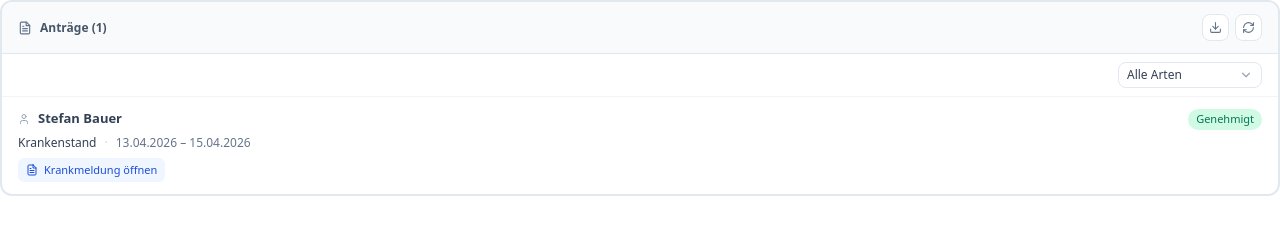
Test case: LeaveRequestsList — Krankmeldung link › shows an inline error when the signed-url request fails
Expected: the text "Stefan Bauer" is shown, [38, 109, 122, 128]
Click the button with test id "attachment-link-lr-krank".
click(92, 170)  # box [18, 158, 165, 182]
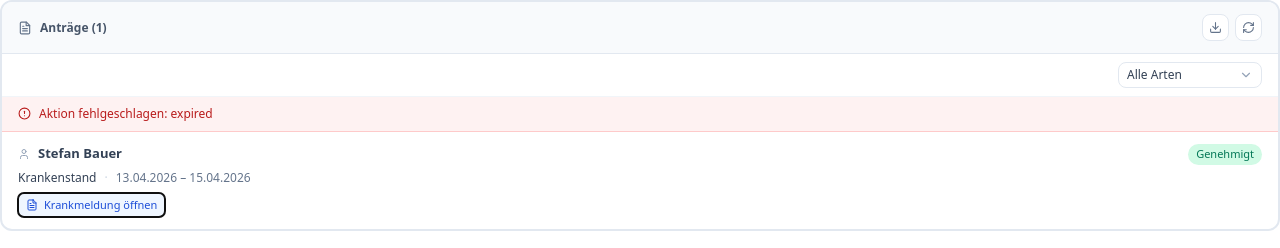
Result: the text "Aktion fehlgeschlagen: expired" is shown at [39, 105, 213, 123]
